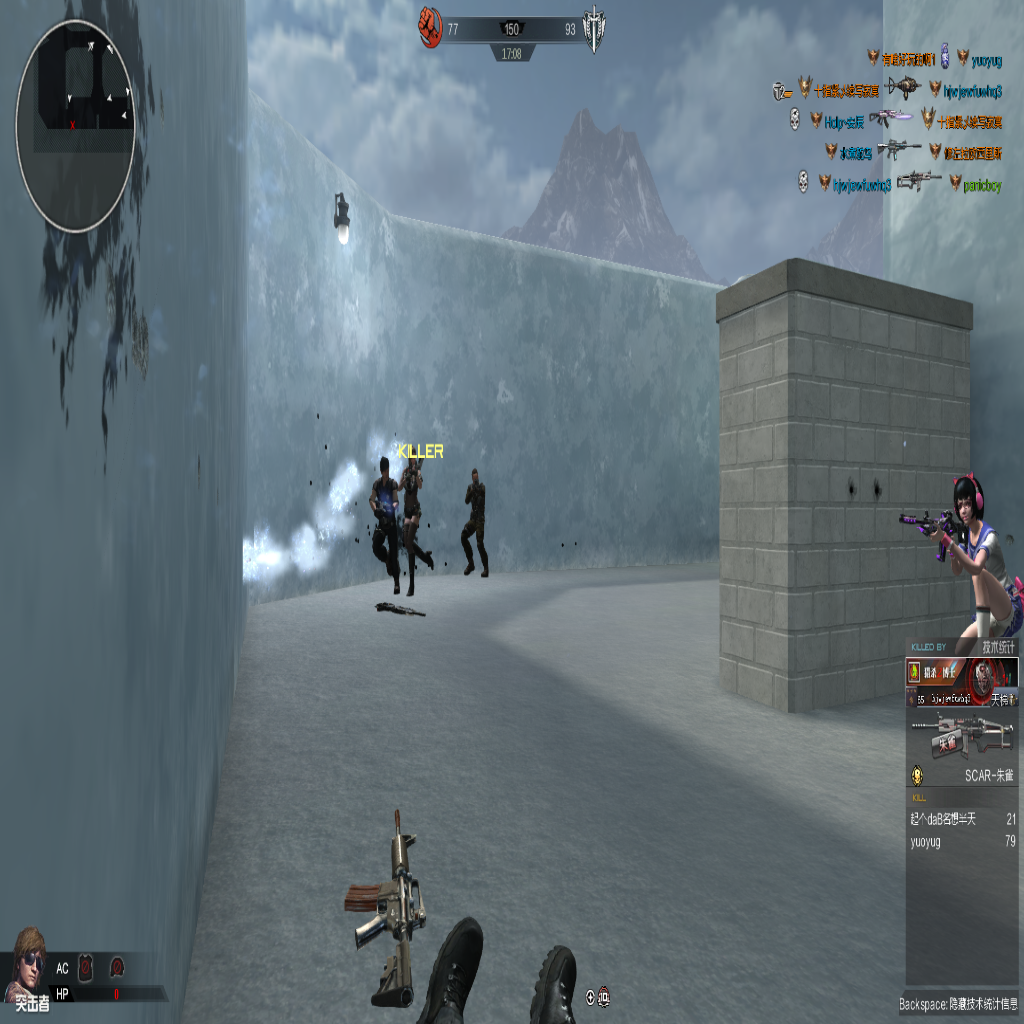ct: (369, 455, 403, 593), (398, 456, 427, 587), (462, 462, 487, 578)
